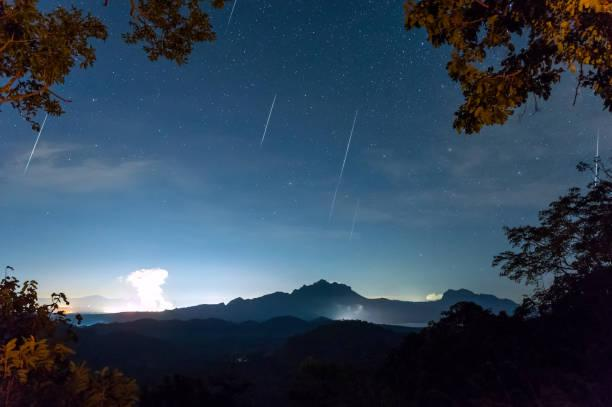meteor: (253, 133, 268, 149), (20, 167, 34, 182), (344, 230, 362, 241), (323, 211, 339, 223)
